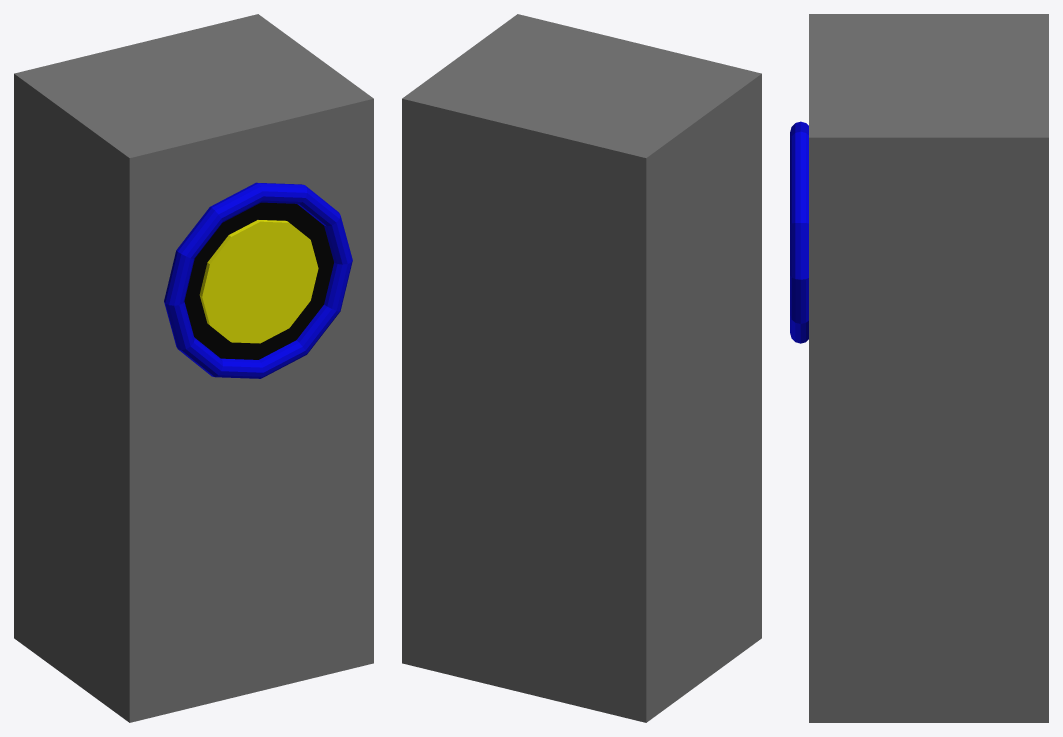
File: level12.1.fbx
3 views of the same model, side by side, from view 1: azimuth 30°, elevation 25°; view 2: azimuth 150°, elevation 25°; view 3: azimuth 270°, elevation 25° (orthographic). The views are drawn at different scales.
Parts seen in each view (by area): view 1: pCylinder26; view 2: pCylinder26; view 3: pCylinder26.
Part boxes in pixels (box(x1,y1,x2,y2)): pCylinder26: box(14, 14, 373, 722); pCylinder26: box(402, 14, 761, 722); pCylinder26: box(790, 14, 1048, 722).
Bounding box in the file's own units: 1.17 × 2.59 × 1.04.
